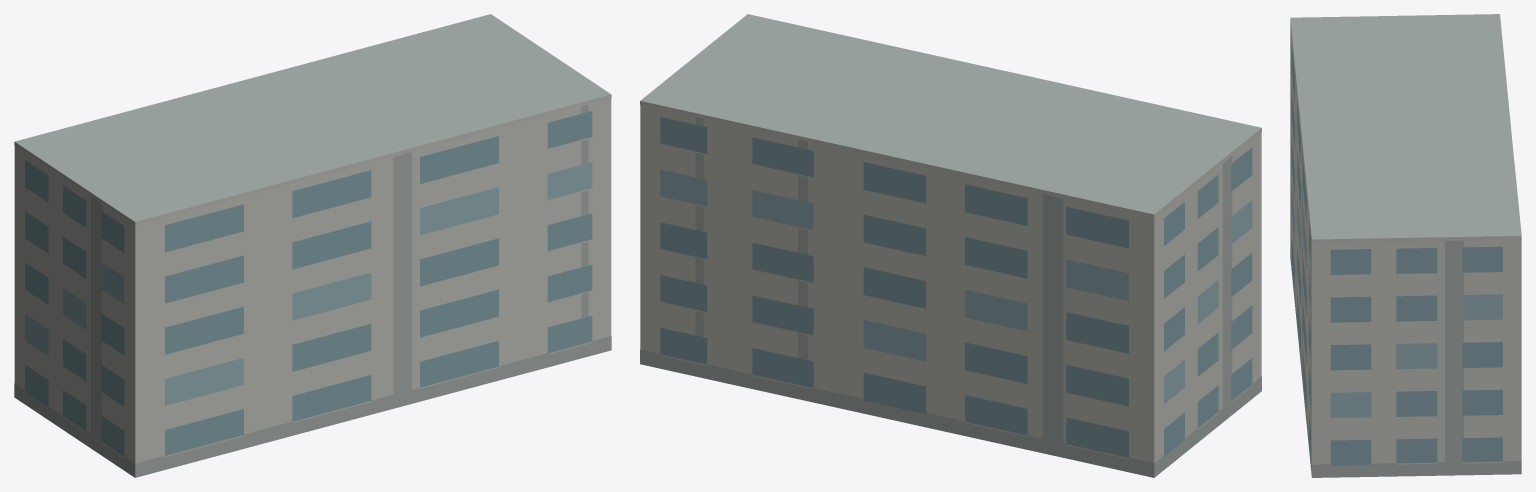
File: residential-e499f684-6037-411a-a08e-37b734b52715.glb
3 views of the same model, side by side, from view 1: azimuth 30°, elevation 25°; view 2: azimuth 150°, elevation 25°; view 3: azimuth 270°, elevation 25° (orthographic). The views are drawn at different scales.
Parts seen in each view (by area): view 1: residential-e499f684-6037-411a-a08e-37b734b52715.tmp; view 2: residential-e499f684-6037-411a-a08e-37b734b52715.tmp; view 3: residential-e499f684-6037-411a-a08e-37b734b52715.tmp.
Boxes of the visible parts, x1=… form: residential-e499f684-6037-411a-a08e-37b734b52715.tmp: x1=14, y1=14, x2=611, y2=477; residential-e499f684-6037-411a-a08e-37b734b52715.tmp: x1=640, y1=14, x2=1261, y2=477; residential-e499f684-6037-411a-a08e-37b734b52715.tmp: x1=1290, y1=14, x2=1521, y2=477.
Bounding box in the file's own units: 30.94 × 15.25 × 13.43.
